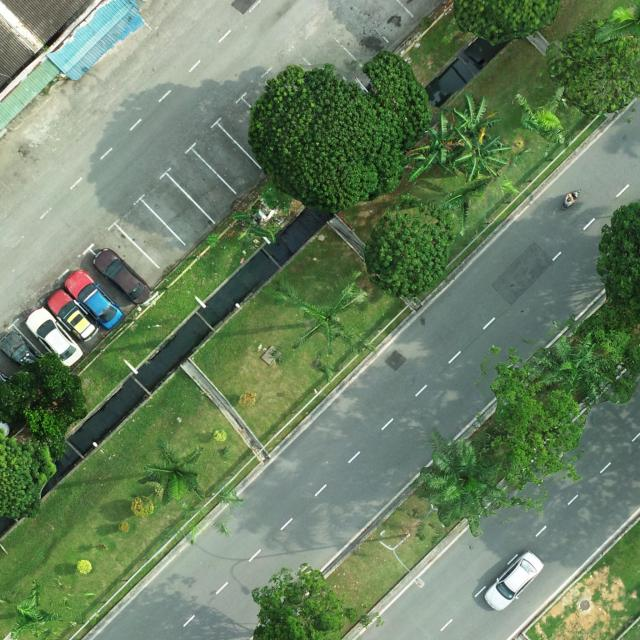Tree: (247, 49, 433, 215), (410, 425, 544, 538), (489, 362, 586, 487), (0, 351, 89, 466), (364, 195, 457, 301), (545, 18, 640, 117), (251, 561, 346, 640), (564, 304, 640, 402), (530, 331, 613, 409), (594, 201, 640, 328), (0, 428, 58, 520), (453, 0, 561, 46), (403, 110, 465, 182), (137, 444, 204, 506), (454, 122, 514, 185), (452, 92, 504, 138)
